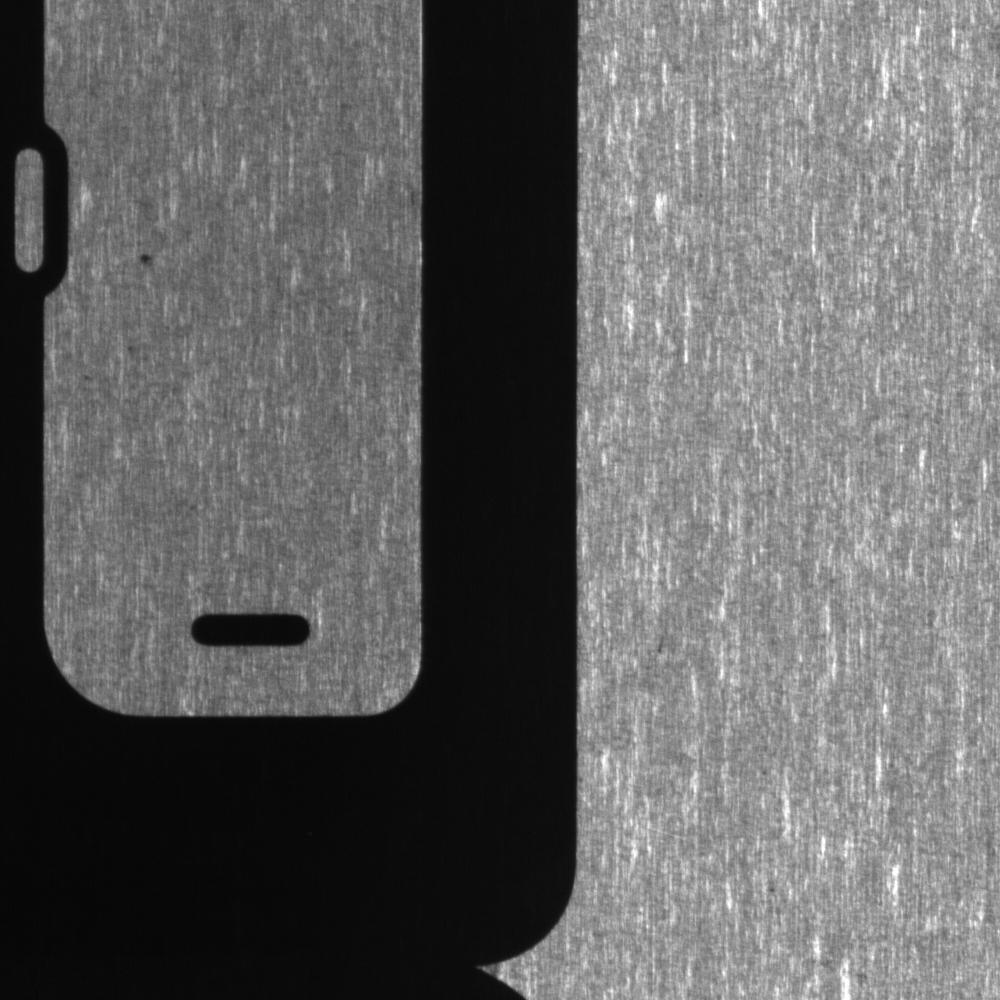Pinhole: (129, 239, 160, 271)
